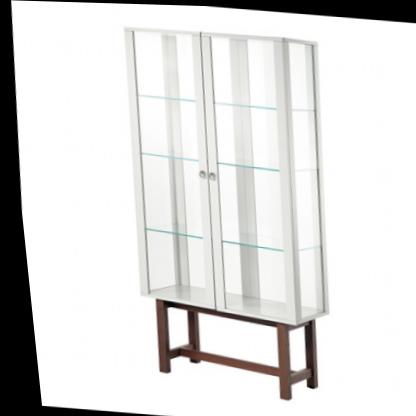Cabinet: (95, 17, 352, 405)
